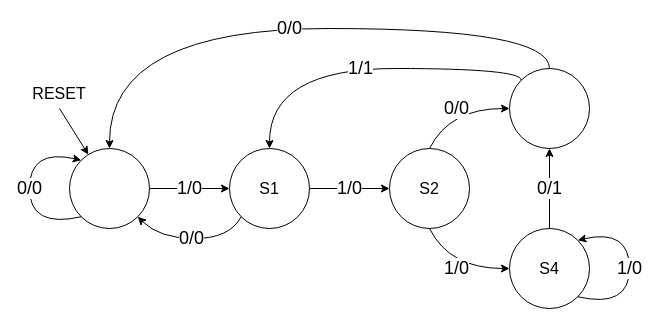
Some shapes in this 659 by 326 pixel diagram are drawn without their labels. Here are the shapes that lost their labels. From the top down, the box of each, then its label:
(508, 68, 590, 148): S3
(68, 148, 150, 228): S0
